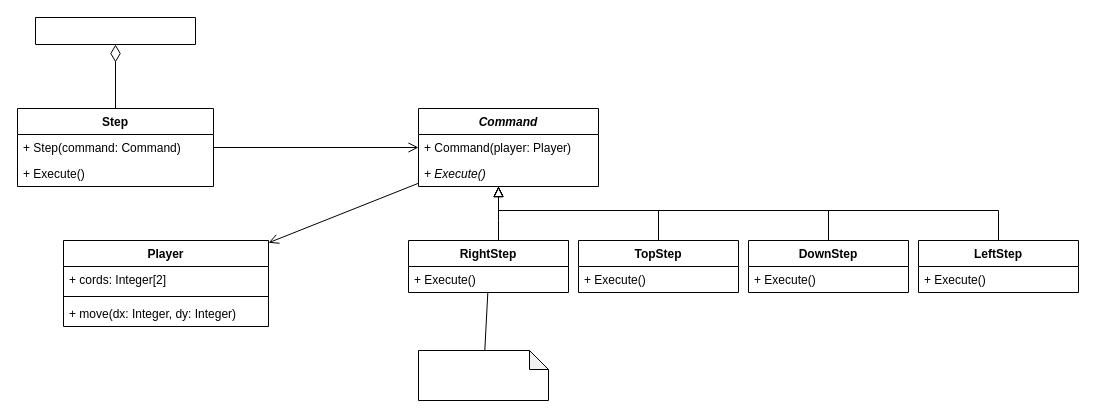
This 1096x418 diagram has some shape labels left out. The shapes that lost their labels are listed below. From the top down, each one's centre as x and y in pixels, then its label:
At pixel 115 30: "Game".
At pixel 483 375: "Execute() { player.move(1,0) }".
